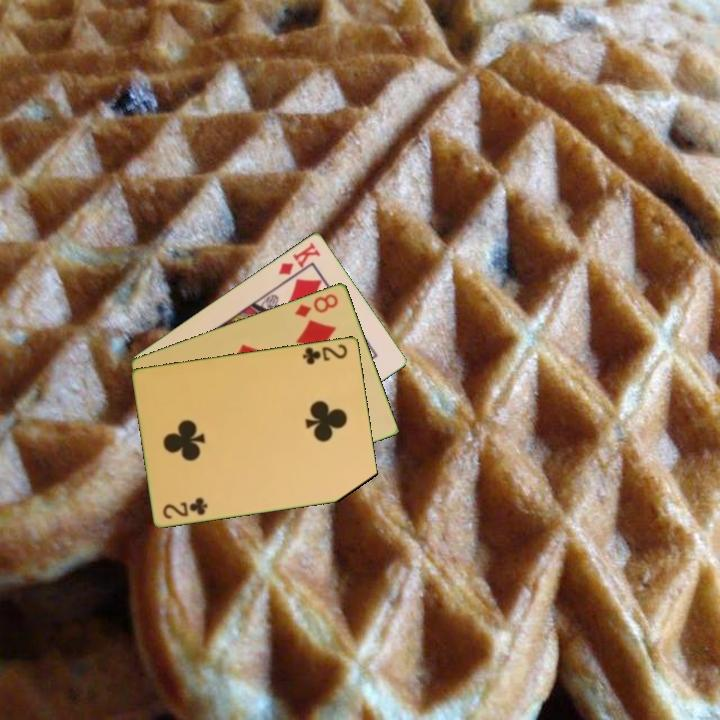2c: (159, 495, 211, 522), (299, 340, 350, 367)
8d: (291, 290, 341, 320)
Kd: (275, 238, 324, 277)
